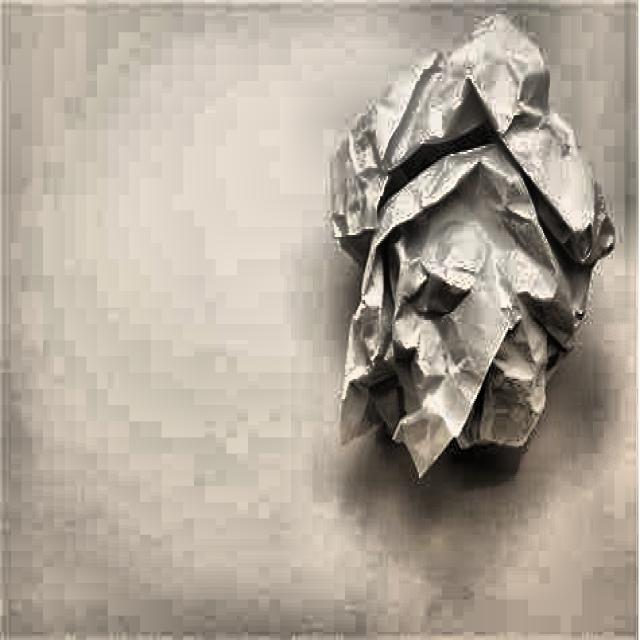Paper: (329, 0, 620, 490)
